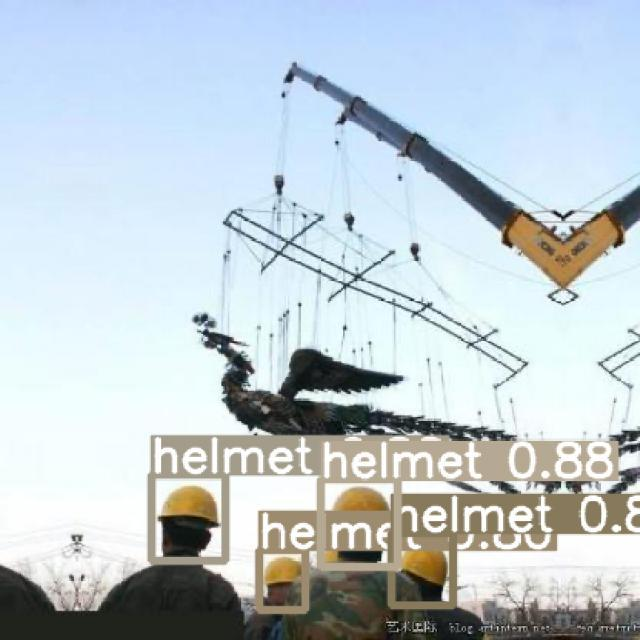Helmet: (156, 485, 220, 527), (400, 548, 447, 586), (263, 556, 301, 585)
